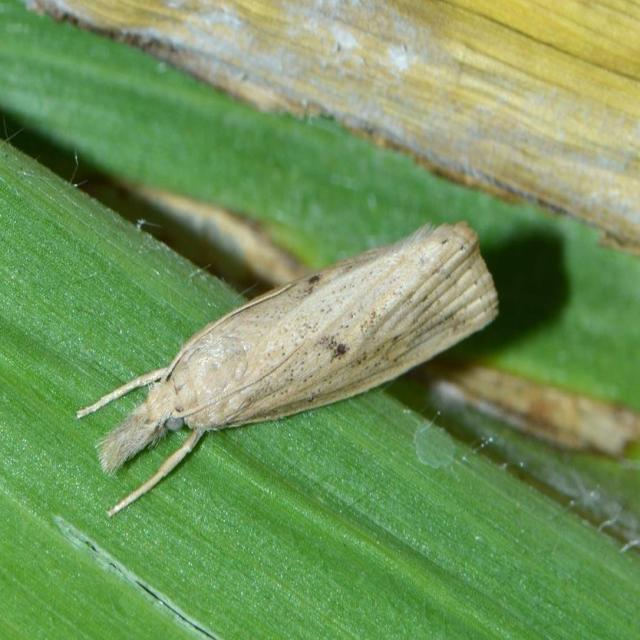yellow-stem-borer: (72, 186, 513, 543)
